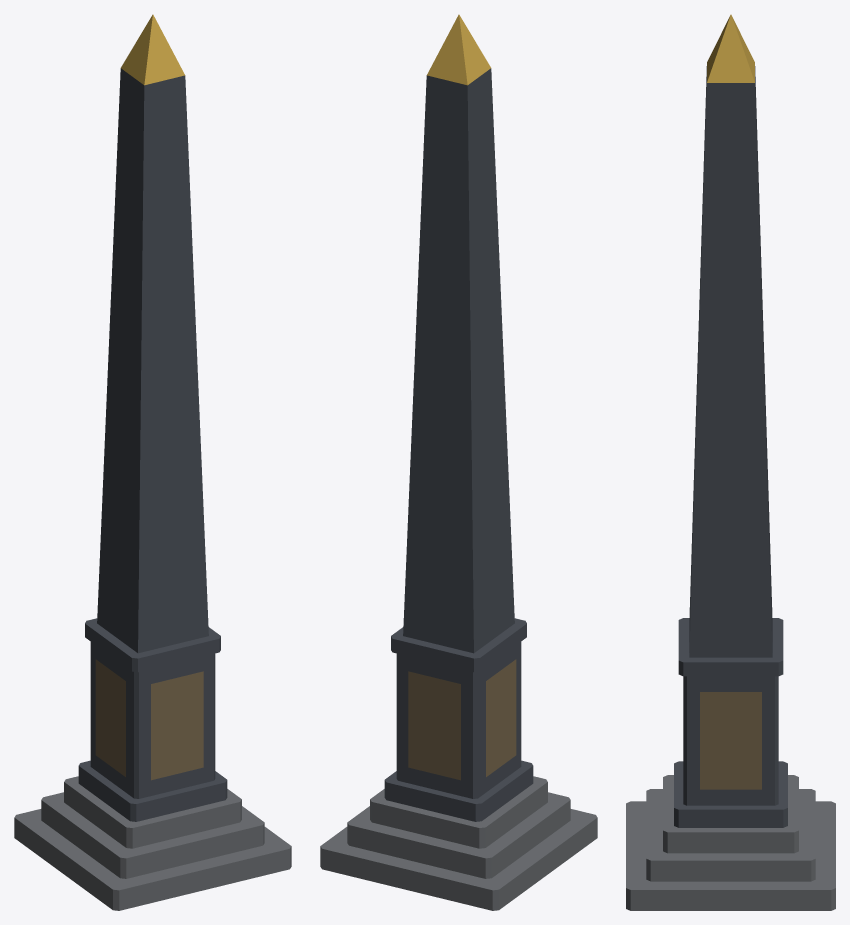
File: indy-veterans-memorial-obelisk.glb
The picture shows the model from 3 angles, left to right: view 1: azimuth 30°, elevation 25°; view 2: azimuth 150°, elevation 25°; view 3: azimuth 270°, elevation 25°; orthographic projection.
Parts seen in each view (by area): view 1: The Obelisk, Veterans Memorial Plaza; view 2: The Obelisk, Veterans Memorial Plaza; view 3: The Obelisk, Veterans Memorial Plaza.
Boxes of the visible parts, <box> form: The Obelisk, Veterans Memorial Plaza: <box>14,14,291,910</box>; The Obelisk, Veterans Memorial Plaza: <box>320,14,597,910</box>; The Obelisk, Veterans Memorial Plaza: <box>626,14,835,910</box>.
Bounding box in the file's own units: 6.8 × 30.5 × 6.8.
